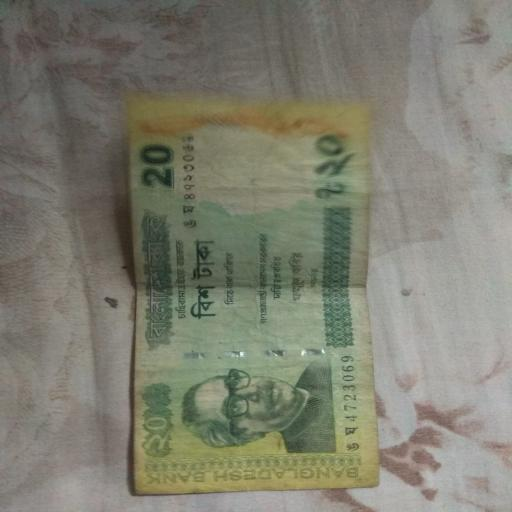20taka: (128, 95, 378, 494)
